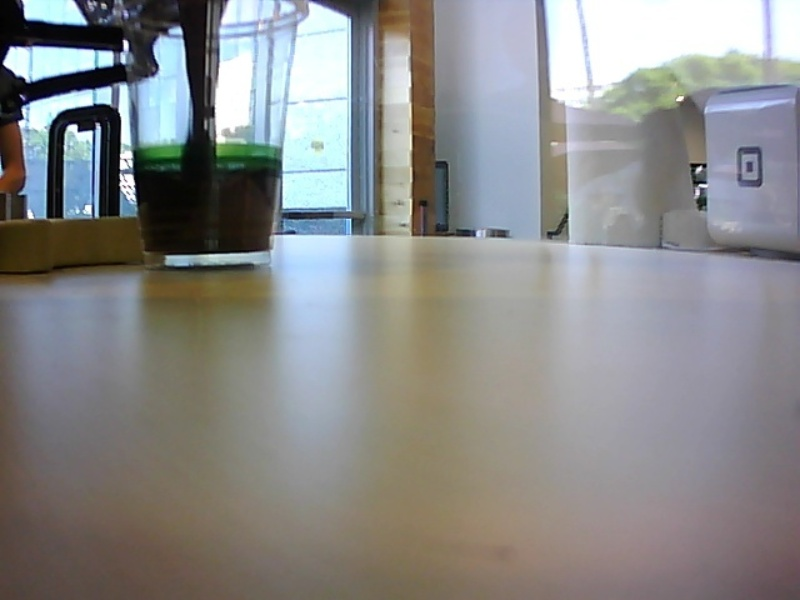cup: (114, 1, 313, 272)
limit: (129, 156, 283, 188)
